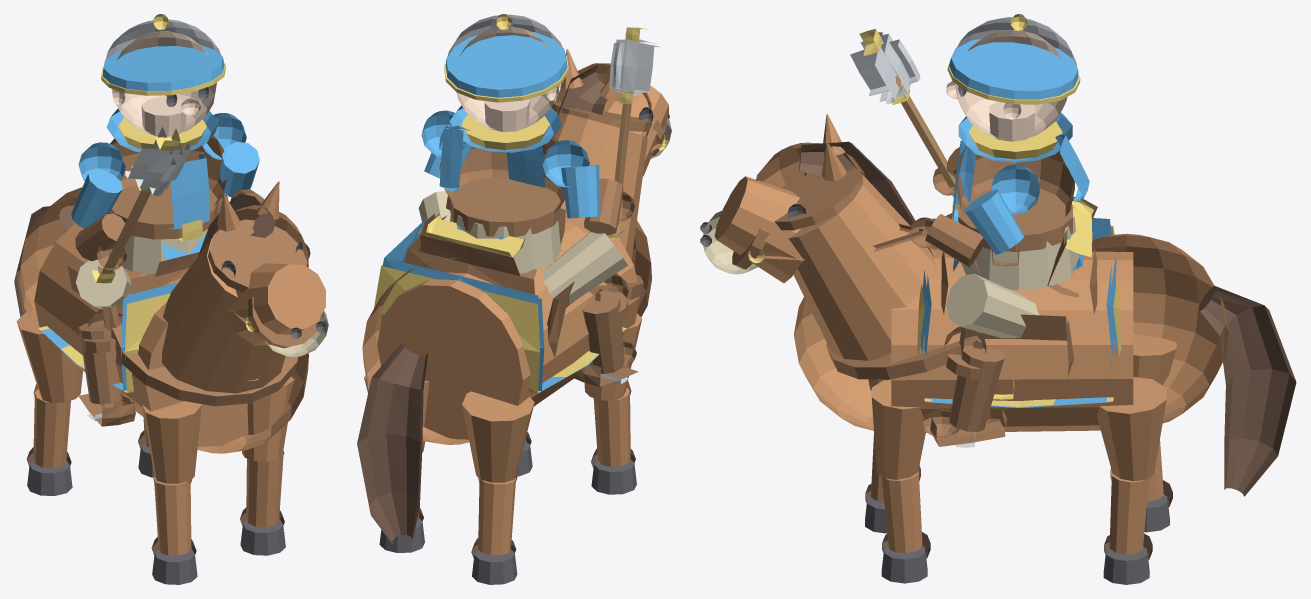
The model's file is jinete.glb.
The picture shows the model from 3 angles, left to right: view 1: azimuth 30°, elevation 25°; view 2: azimuth 150°, elevation 25°; view 3: azimuth 270°, elevation 25°; orthographic projection. The views are drawn at different scales.
Visible parts, largest first — view 1: Jinete; view 2: Jinete; view 3: Jinete.
Boxes of the visible parts, x1,y1,x2,y2 form: Jinete: (14, 14, 328, 584); Jinete: (357, 14, 671, 584); Jinete: (700, 14, 1296, 584).
Size of the model in its own units: 0.7437 by 1.75 by 1.77.
